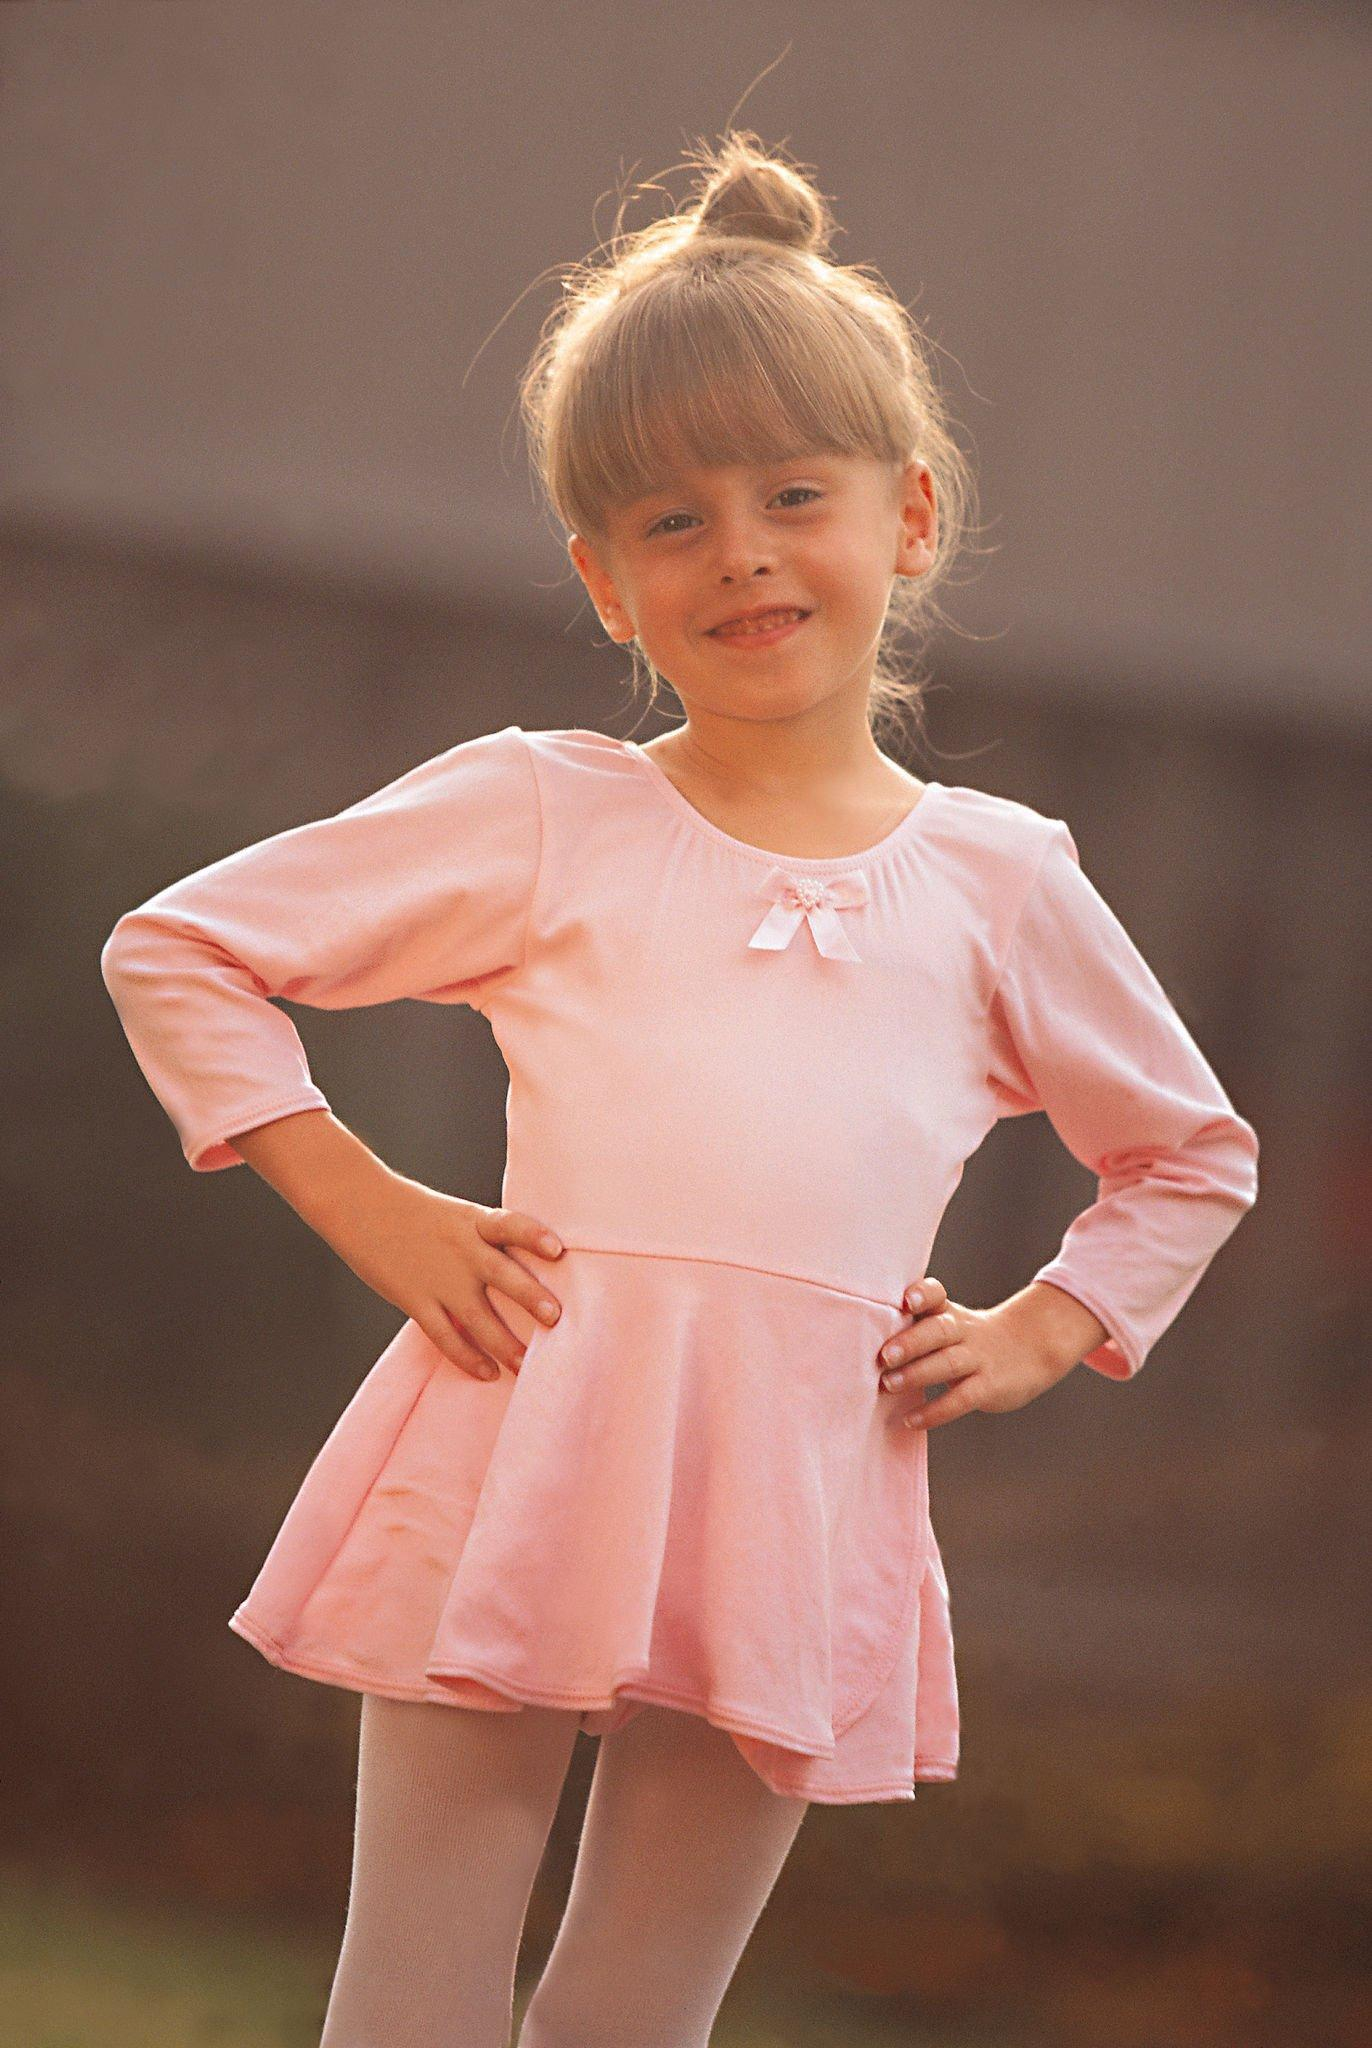Healthy: (562, 346, 945, 748)
